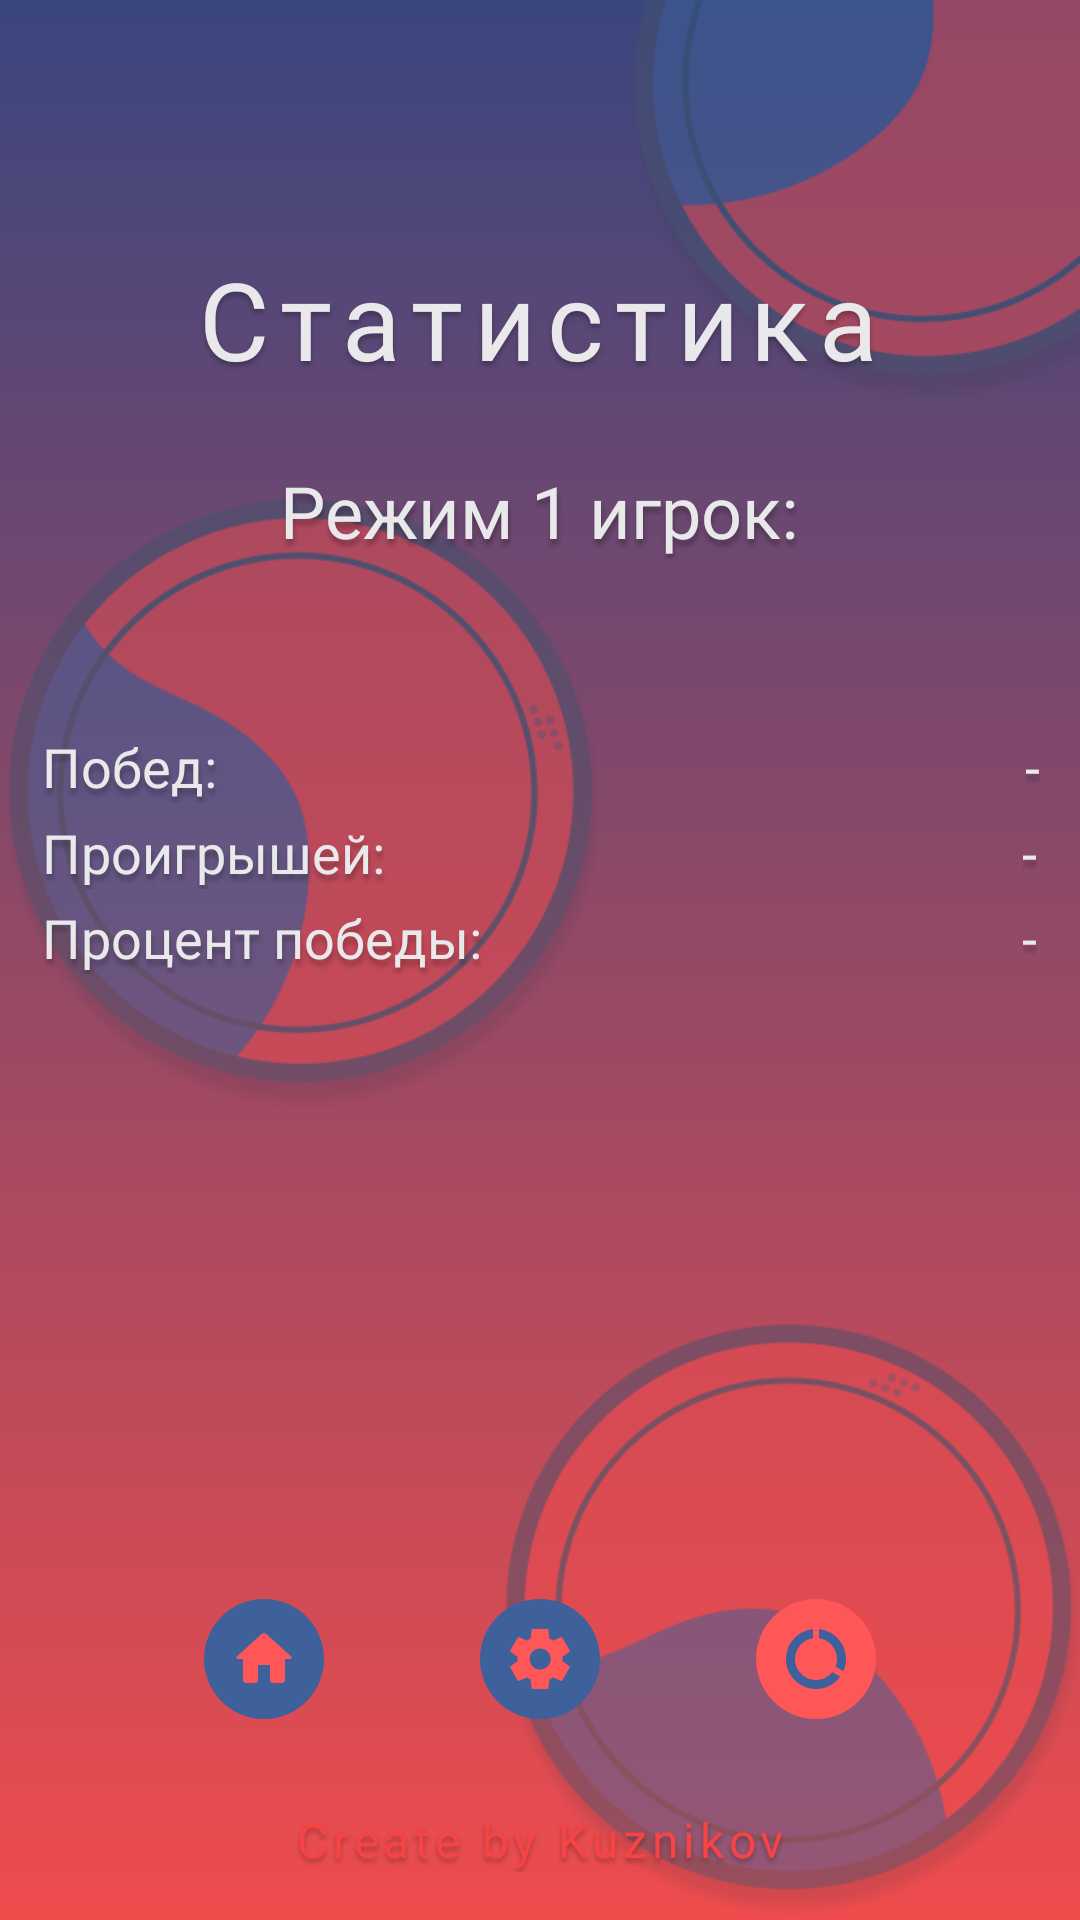

Icon click points for this 1080x1920 phone screenshot, format (x,y):
settings: (540,1659)
stats: (816,1659)
